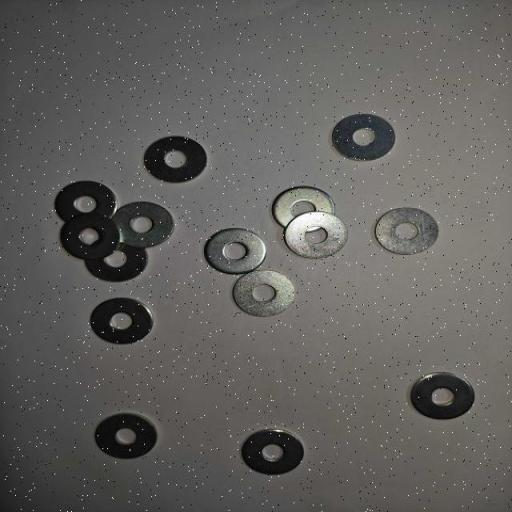washer: (411, 372, 475, 420), (332, 113, 395, 161), (90, 296, 152, 344), (233, 269, 295, 317), (376, 207, 438, 255), (94, 413, 157, 460), (285, 211, 348, 258), (241, 428, 304, 474), (144, 136, 207, 182), (60, 212, 120, 260), (113, 202, 174, 248), (205, 228, 266, 274), (54, 180, 116, 224), (272, 186, 335, 229), (85, 241, 149, 283)
